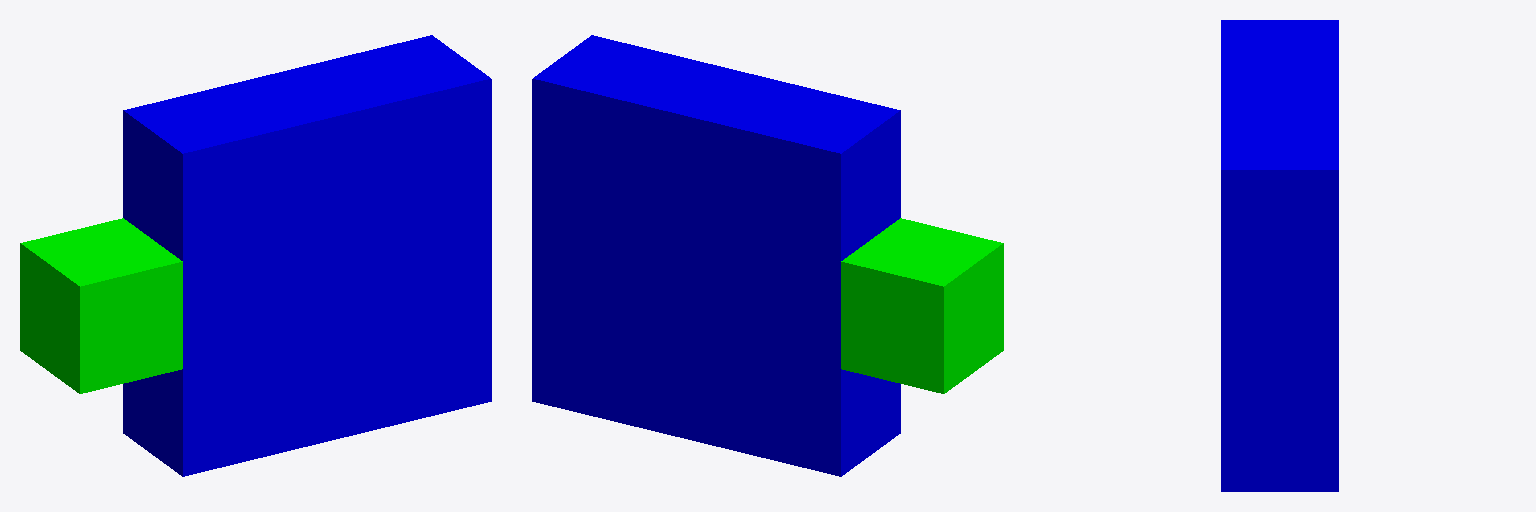
The robot description file, URDF, robot "robot":
<robot name = "robot">
    <link name="root">
        <inertial>
            <origin xyz="0.0 0.0 1.5" rpy="0 0 0"/>
            <mass value="1" />
            <inertia ixx="100" ixy="0" ixz="0" iyy="100" iyz="0" izz="100" />
        </inertial>
        <visual>
            <origin xyz="0.0 0.0 1.5" rpy="0 0 0"/>
            <geometry>
                <box size="0 0 0.0001" />
            </geometry>
            <material name="Green">
                <color rgba="0 1.0 0.0 1.0"/>
            </material>
        </visual>
        <collision>
            <origin xyz="0.0 0.0 1.5" rpy="0 0 0"/>
            <geometry>
                <box size="0 0 0.0001" />
            </geometry>
        </collision>
    </link>
    <joint name="root_000" type="revolute">
       <parent link="root"/>
       <child  link="000"/>
       <origin rpy="0 0 0" xyz="0.0 0.0 1.5" />
     <axis xyz="1 0 0"/>
       <limit effort="0.0" lower="-3.14159" upper="3.14159" velocity="0.0"/>
    </joint>
    <link name="000">
        <inertial>
            <origin xyz="0.0 0.0 -0.1" rpy="0 0 0"/>
            <mass value="1" />
            <inertia ixx="100" ixy="0" ixz="0" iyy="100" iyz="0" izz="100" />
        </inertial>
        <visual>
            <origin xyz="0.0 0.0 -0.1" rpy="0 0 0"/>
            <geometry>
                <box size="0.2 0.2 0.2" />
            </geometry>
            <material name="Green">
                <color rgba="0 1.0 0.0 1.0"/>
            </material>
        </visual>
        <collision>
            <origin xyz="0.0 0.0 -0.1" rpy="0 0 0"/>
            <geometry>
                <box size="0.2 0.2 0.2" />
            </geometry>
        </collision>
    </link>
    <joint name="000_000-100" type="revolute">
       <parent link="000"/>
       <child  link="000-100"/>
       <origin rpy="0 0 0" xyz="0.1 0.0 -0.1" />
     <axis xyz="1 0 0"/>
       <limit effort="0.0" lower="-3.14159" upper="3.14159" velocity="0.0"/>
    </joint>
    <link name="000-100">
        <inertial>
            <origin xyz="0.1 0.0 -0.0" rpy="0 0 0"/>
            <mass value="1" />
            <inertia ixx="100" ixy="0" ixz="0" iyy="100" iyz="0" izz="100" />
        </inertial>
        <visual>
            <origin xyz="0.1 0.0 -0.0" rpy="0 0 0"/>
            <geometry>
                <box size="0.2 0.2 0.6" />
            </geometry>
            <material name="Blue">
                <color rgba="0 0.0 1.0 1.0"/>
            </material>
        </visual>
        <collision>
            <origin xyz="0.1 0.0 -0.0" rpy="0 0 0"/>
            <geometry>
                <box size="0.2 0.2 0.6" />
            </geometry>
        </collision>
    </link>
    <joint name="000-100_000-110" type="revolute">
       <parent link="000-100"/>
       <child  link="000-110"/>
       <origin rpy="0 0 0" xyz="0.2 0.0 -0.0" />
     <axis xyz="1 0 0"/>
       <limit effort="0.0" lower="-3.14159" upper="3.14159" velocity="0.0"/>
    </joint>
    <link name="000-110">
        <inertial>
            <origin xyz="0.1 0.0 -0.0" rpy="0 0 0"/>
            <mass value="1" />
            <inertia ixx="100" ixy="0" ixz="0" iyy="100" iyz="0" izz="100" />
        </inertial>
        <visual>
            <origin xyz="0.1 0.0 -0.0" rpy="0 0 0"/>
            <geometry>
                <box size="0.2 0.2 0.6" />
            </geometry>
            <material name="Blue">
                <color rgba="0 0.0 1.0 1.0"/>
            </material>
        </visual>
        <collision>
            <origin xyz="0.1 0.0 -0.0" rpy="0 0 0"/>
            <geometry>
                <box size="0.2 0.2 0.6" />
            </geometry>
        </collision>
    </link>
    <joint name="000-110_000-120" type="revolute">
       <parent link="000-110"/>
       <child  link="000-120"/>
       <origin rpy="0 0 0" xyz="0.2 0.0 -0.0" />
     <axis xyz="1 0 0"/>
       <limit effort="0.0" lower="-3.14159" upper="3.14159" velocity="0.0"/>
    </joint>
    <link name="000-120">
        <inertial>
            <origin xyz="0.1 0.0 -0.0" rpy="0 0 0"/>
            <mass value="1" />
            <inertia ixx="100" ixy="0" ixz="0" iyy="100" iyz="0" izz="100" />
        </inertial>
        <visual>
            <origin xyz="0.1 0.0 -0.0" rpy="0 0 0"/>
            <geometry>
                <box size="0.2 0.2 0.6" />
            </geometry>
            <material name="Blue">
                <color rgba="0 0.0 1.0 1.0"/>
            </material>
        </visual>
        <collision>
            <origin xyz="0.1 0.0 -0.0" rpy="0 0 0"/>
            <geometry>
                <box size="0.2 0.2 0.6" />
            </geometry>
        </collision>
    </link>
</robot>

--- Render facts (derived) ---
The picture shows the robot from 3 angles, left to right: view 1: azimuth 30°, elevation 25°; view 2: azimuth 150°, elevation 25°; view 3: azimuth 270°, elevation 25°; orthographic projection.
Robot: robot — 5 links, 4 joints (4 revolute); root link root; default pose: all joints at 0.
Links seen in each view (by area): view 1: 000-100, 000-120, 000-110, 000; view 2: 000-100, 000-120, 000-110, 000; view 3: 000-120, 000-100, 000-110.
Boxes of the visible links, left/top/right/bottom form: 000-100: left=123, top=85, right=285, bottom=476; 000-120: left=330, top=35, right=491, bottom=426; 000-110: left=227, top=60, right=388, bottom=451; 000: left=20, top=218, right=182, bottom=393; 000-100: left=738, top=85, right=900, bottom=476; 000-120: left=532, top=35, right=693, bottom=426; 000-110: left=635, top=60, right=796, bottom=451; 000: left=841, top=218, right=1003, bottom=393; 000-120: left=1221, top=120, right=1338, bottom=491; 000-100: left=1221, top=20, right=1338, bottom=69; 000-110: left=1221, top=70, right=1338, bottom=119.
Size in the robot's own frame: 0.8 by 0.2 by 0.6 metres.
Geometry: primitives only (box / cylinder / sphere), no mesh files.